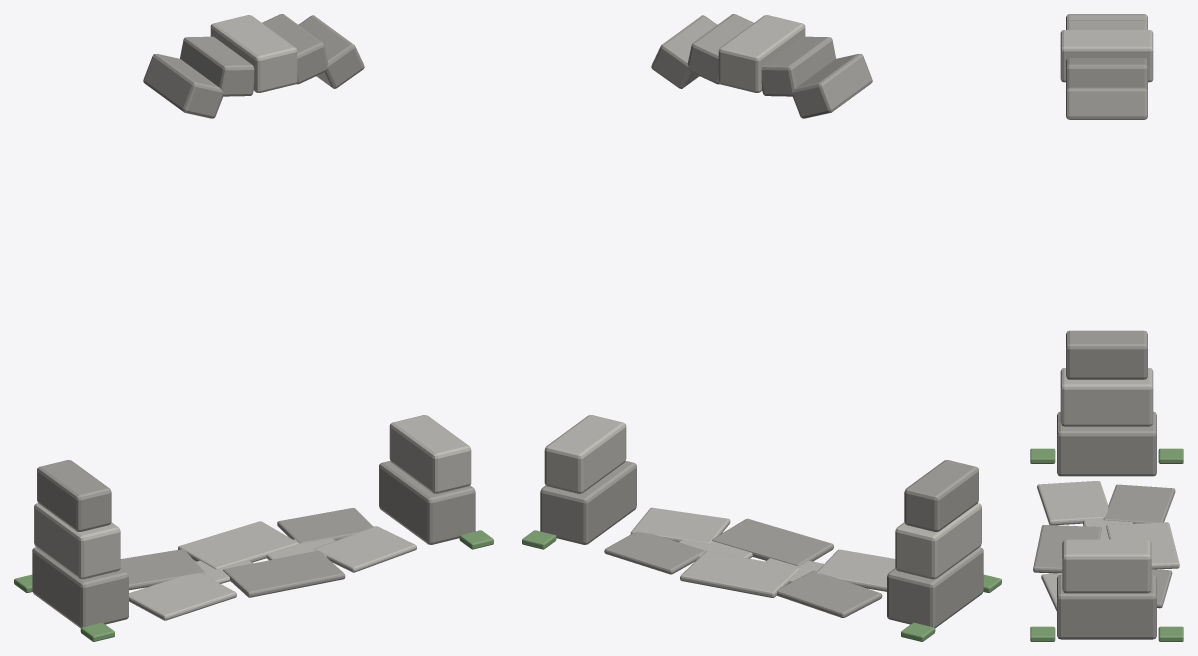
The model's file is door_trim_to_stone.glb.
3 views of the same model, side by side, from view 1: azimuth 30°, elevation 25°; view 2: azimuth 150°, elevation 25°; view 3: azimuth 270°, elevation 25° (orthographic). The views are drawn at different scales.
Parts seen in each view (by area): view 1: RuinJambStone_3, RuinJambStone_4, RuinJambStone_0, RuinJambStone_1, RuinJambStone_2, RuinArchVoussoir_2, SteppingFlagstone_1, SteppingFlagstone_4, RuinArchVoussoir_4, SteppingFlagstone_0, RuinArchVoussoir_3, SteppingFlagstone_2 (+4 smaller); view 2: RuinJambStone_3, RuinJambStone_4, RuinJambStone_0, RuinJambStone_1, RuinJambStone_2, RuinArchVoussoir_2, SteppingFlagstone_4, RuinArchVoussoir_4, SteppingFlagstone_1, RuinArchVoussoir_3, SteppingFlagstone_3, SteppingFlagstone_5 (+4 smaller); view 3: RuinJambStone_0, RuinJambStone_4, RuinJambStone_3, RuinJambStone_1, RuinJambStone_2, RuinArchVoussoir_2, RuinArchVoussoir_0, SteppingFlagstone_0, RuinArchVoussoir_1, SteppingFlagstone_3, SteppingFlagstone_4, SteppingFlagstone_1 (+9 smaller).
Boxes of the visible parts, x1,y1,x2,y2 form: RuinJambStone_3: (379, 461, 475, 544); RuinJambStone_4: (389, 415, 471, 493); RuinJambStone_0: (32, 547, 128, 628); RuinJambStone_1: (34, 503, 120, 579); RuinJambStone_2: (37, 460, 111, 531); RuinArchVoussoir_2: (210, 15, 297, 92); SteppingFlagstone_1: (223, 551, 345, 597); SteppingFlagstone_4: (178, 521, 298, 569); RuinArchVoussoir_4: (143, 54, 223, 118); SteppingFlagstone_0: (129, 573, 236, 620); RuinArchVoussoir_3: (180, 36, 254, 96); SteppingFlagstone_2: (314, 526, 416, 572); RuinJambStone_3: (540, 461, 636, 544); RuinJambStone_4: (544, 415, 626, 493); RuinJambStone_0: (887, 547, 983, 628); RuinJambStone_1: (895, 503, 981, 579); RuinJambStone_2: (904, 460, 978, 531); RuinArchVoussoir_2: (718, 15, 805, 92); SteppingFlagstone_4: (680, 551, 799, 597); RuinArchVoussoir_4: (792, 54, 872, 118); SteppingFlagstone_1: (712, 518, 833, 566); RuinArchVoussoir_3: (761, 36, 835, 96); SteppingFlagstone_3: (776, 570, 882, 617); SteppingFlagstone_5: (604, 531, 705, 574); RuinJambStone_0: (1057, 411, 1156, 476); RuinJambStone_4: (1062, 539, 1151, 593); RuinJambStone_3: (1057, 574, 1156, 639); RuinJambStone_1: (1060, 368, 1153, 426); RuinJambStone_2: (1066, 330, 1147, 379); RuinArchVoussoir_2: (1060, 30, 1153, 82); RuinArchVoussoir_0: (1066, 87, 1147, 119); SteppingFlagstone_0: (1037, 481, 1108, 525); RuinArchVoussoir_1: (1066, 58, 1147, 89); SteppingFlagstone_3: (1103, 484, 1175, 523); SteppingFlagstone_4: (1106, 522, 1179, 569); SteppingFlagstone_1: (1033, 525, 1101, 573).
Bounding box in the file's own units: 2.48 × 3.12 × 0.8518.
